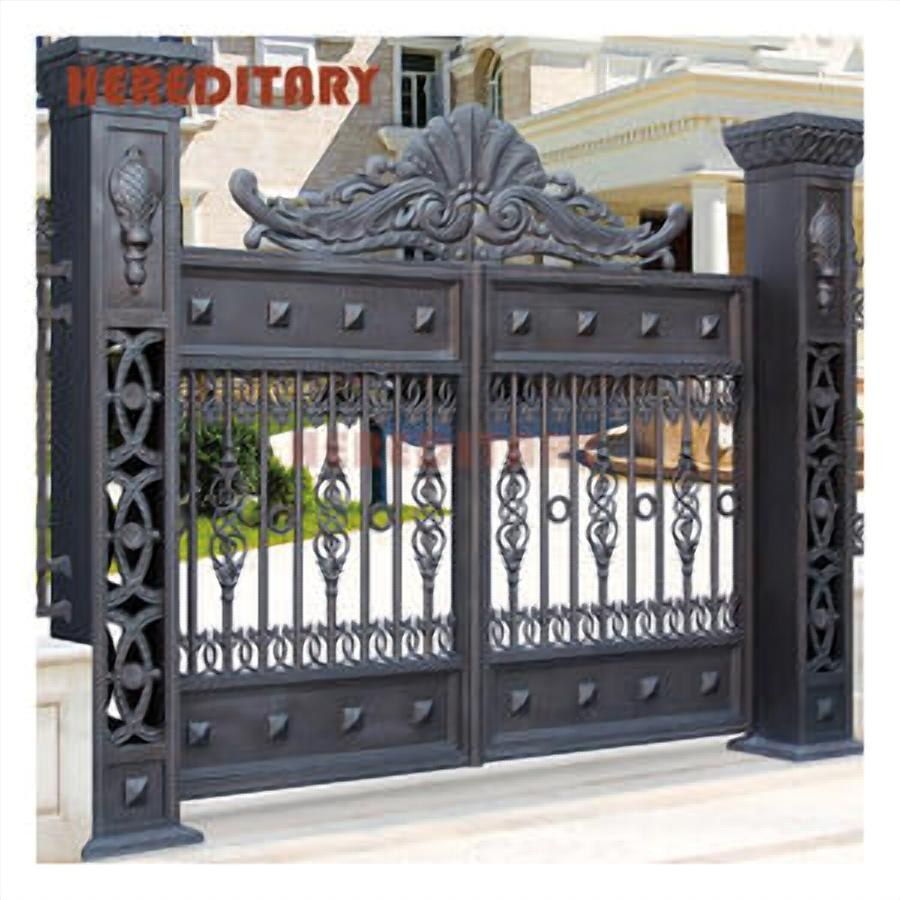Building: (29, 27, 865, 416)
Door: (642, 209, 697, 296)
Gate: (162, 104, 758, 799)
Window-without-grill: (400, 50, 438, 127)
